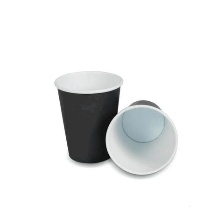paper_cup: (50, 64, 125, 168), (101, 94, 181, 178)
